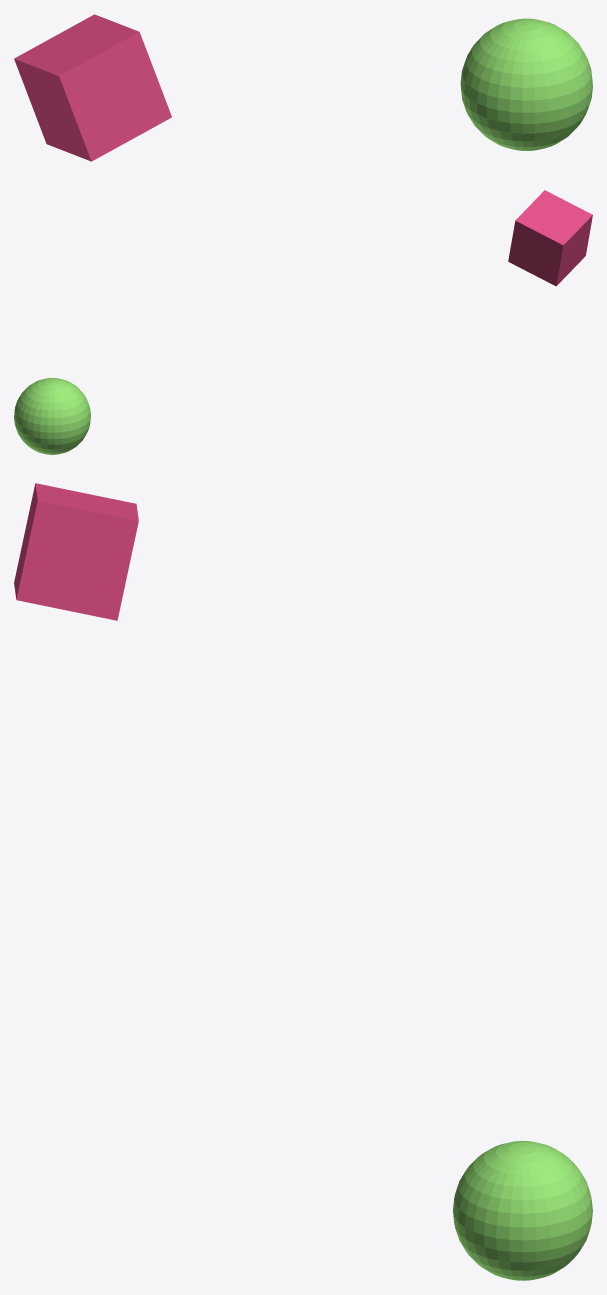
The model's file is background.glb.
3 renders of one model, top to bottom at view 1: azimuth 30°, elevation 25°; view 2: azimuth 150°, elevation 25°; view 3: azimuth 270°, elevation 25°, orthographic. The views are drawn at different scales.
Visible parts, largest first — view 1: Cube, Sphere; view 2: Cube, Sphere; view 3: Sphere, Cube.
Boxes of the visible parts, x1,y1,x2,y2 form: Cube: [14, 14, 171, 161]; Sphere: [460, 18, 592, 150]; Cube: [508, 190, 592, 286]; Sphere: [14, 378, 90, 454]; Sphere: [453, 1140, 592, 1280]; Cube: [14, 483, 138, 620].
Size of the model in its own units: 13.16 by 7.18 by 8.26.
